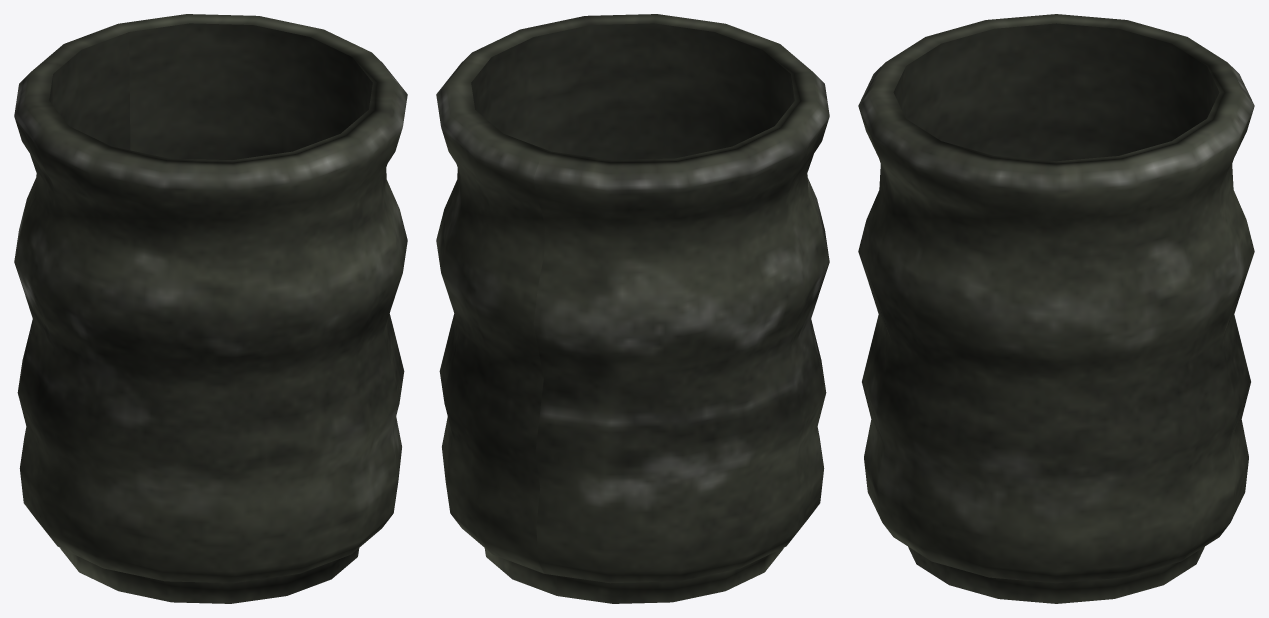
Rendered from SM_Yunomi.fbx.
3 renders of one model, left to right at view 1: azimuth 30°, elevation 25°; view 2: azimuth 150°, elevation 25°; view 3: azimuth 270°, elevation 25°, orthographic.
Parts seen in each view (by area): view 1: SM_Yunomi; view 2: SM_Yunomi; view 3: SM_Yunomi.
Part boxes in pixels (x1,y1,x2,y2): SM_Yunomi: (14, 14, 407, 603); SM_Yunomi: (436, 14, 829, 603); SM_Yunomi: (858, 14, 1254, 603).
Bounding box in the file's own units: 7.11 × 8.86 × 7.11.
